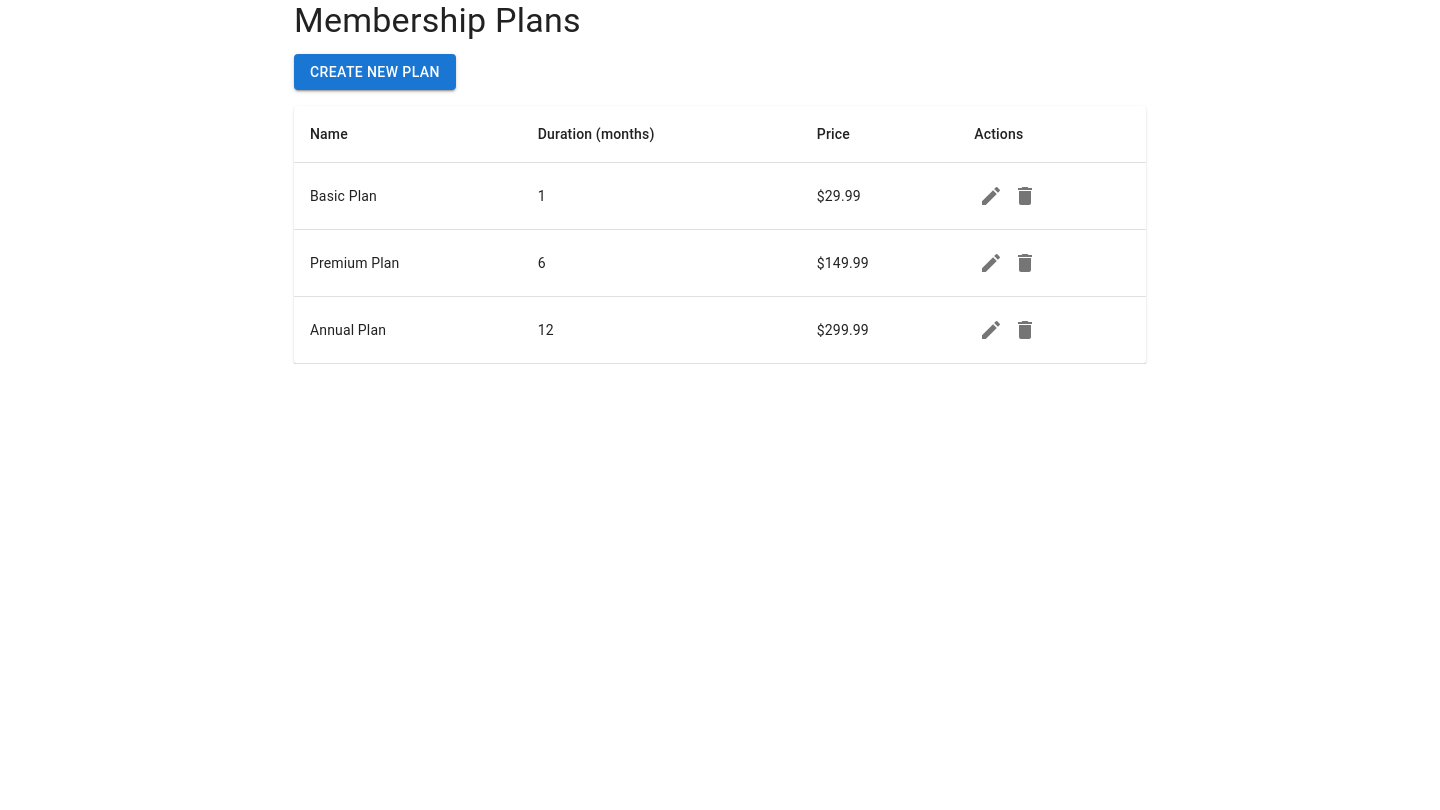
Test: MembershipPlanPage › updates plan and updated plan appears in table
This screenshot has width=1440, height=810.
Click the button named "Edit" in the row of "Annual Plan" at x=991, y=330, box [974,313,1008,347]
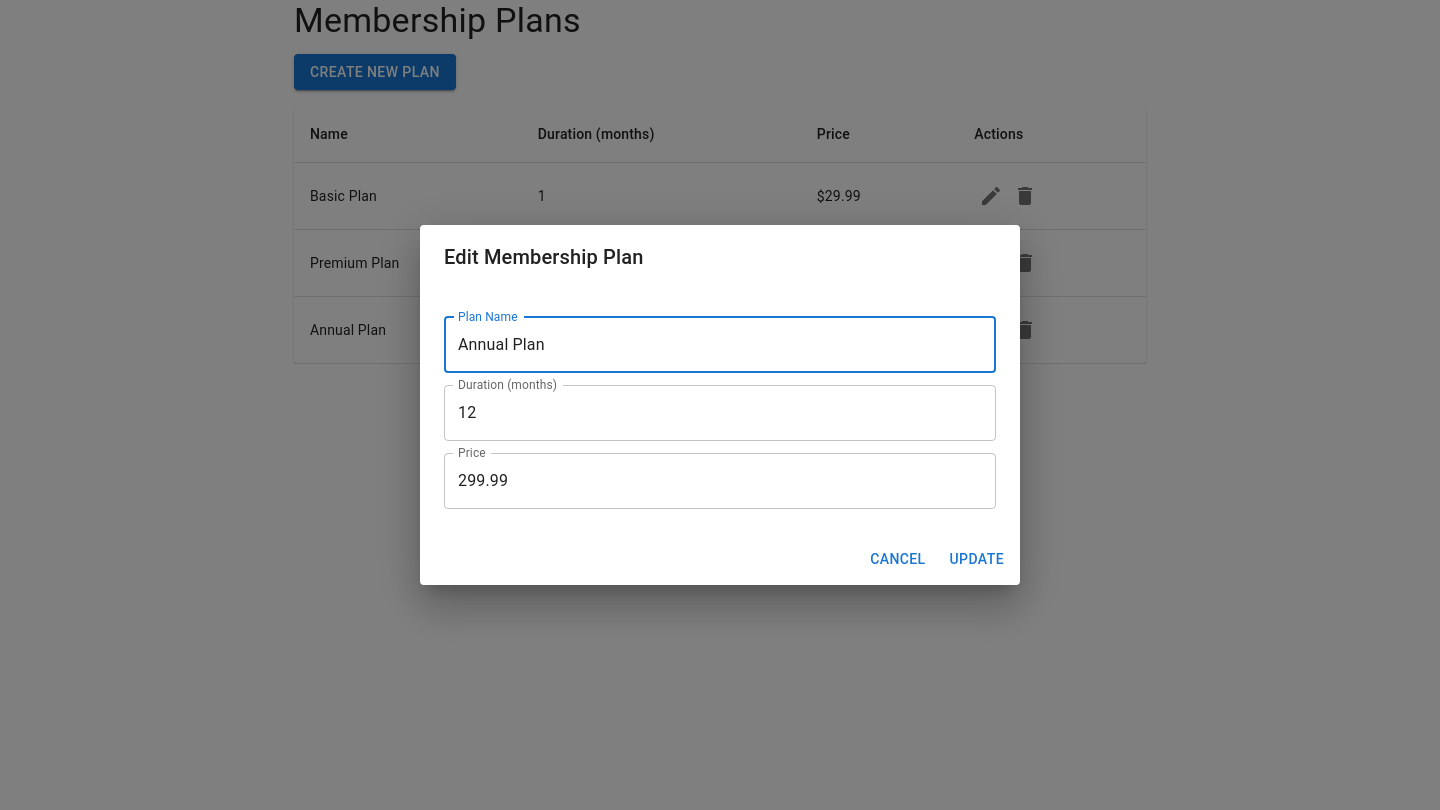
Replace the text in the field labelled "Plan Name" with "Updated Plan" at x=720, y=345, box [444,317,996,373]
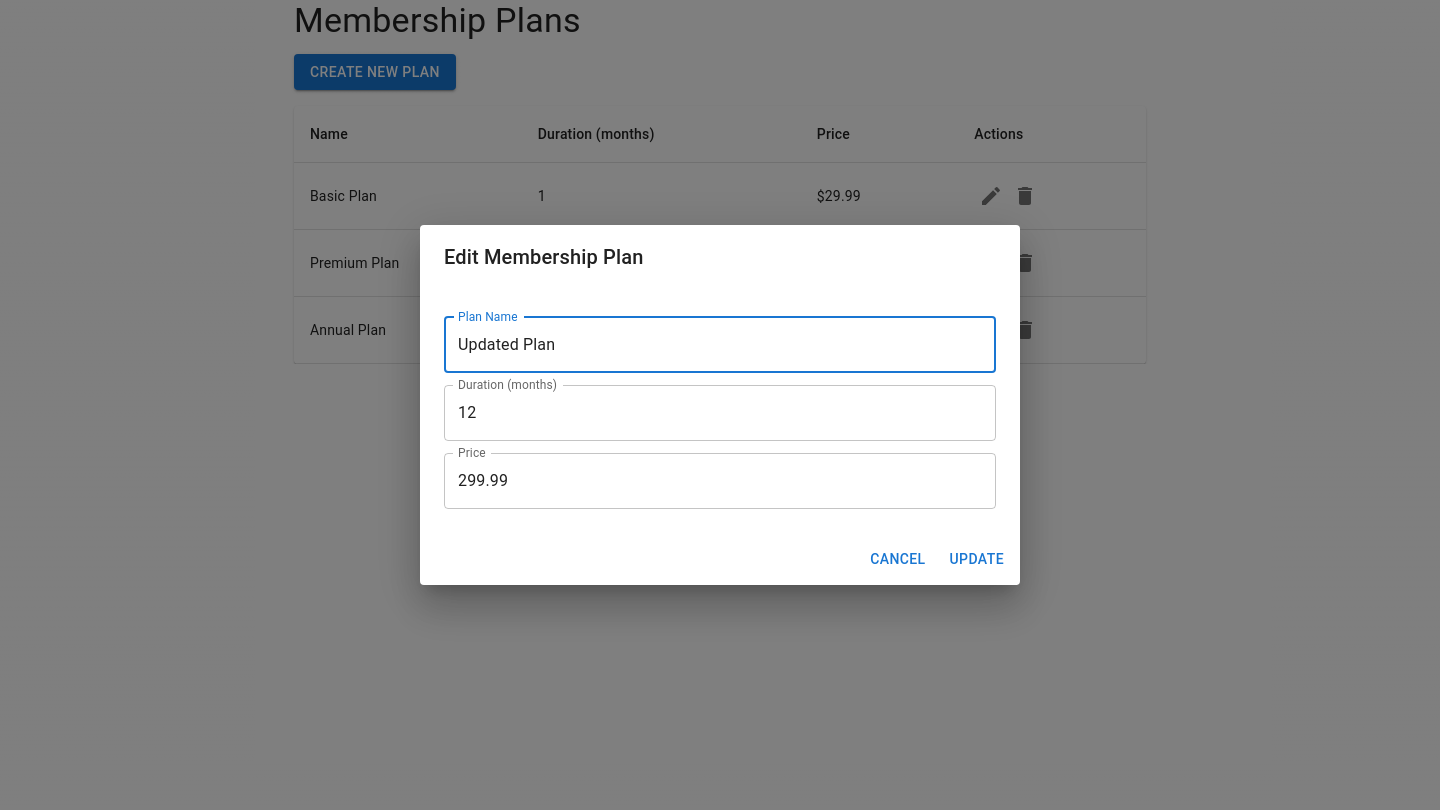
Click the button "Update" at x=977, y=559, box [942,541,1012,577]
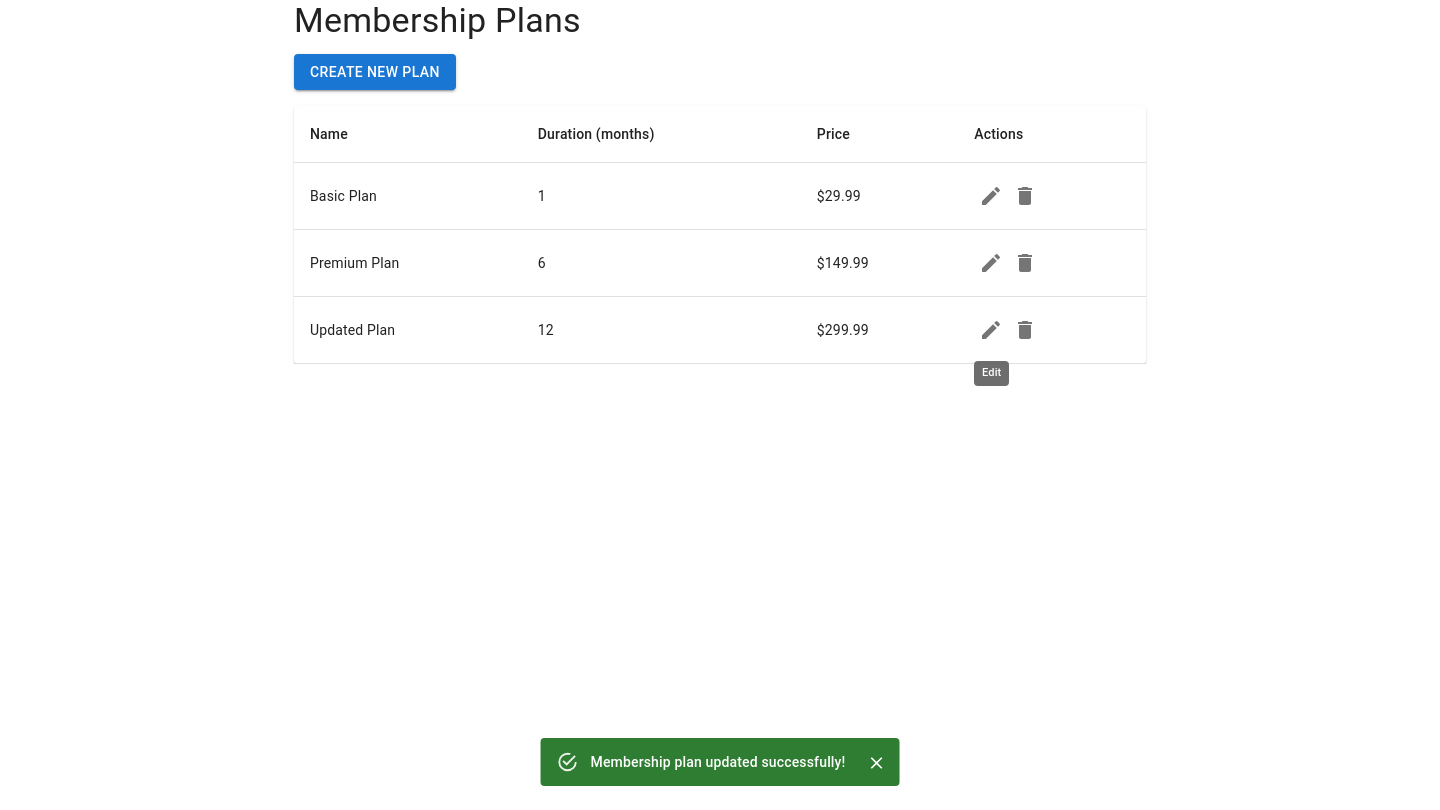
expect the heading "Edit Membership Plan" is gone: met
expect the text "Annual Plan" is gone: met
expect the text "Updated Plan" is shown: met, box [294,297,522,364]
